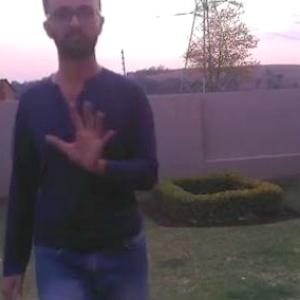follow_hand: (44, 93, 116, 168)
